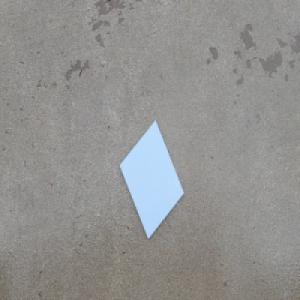PaintChip: (119, 118, 185, 241)
